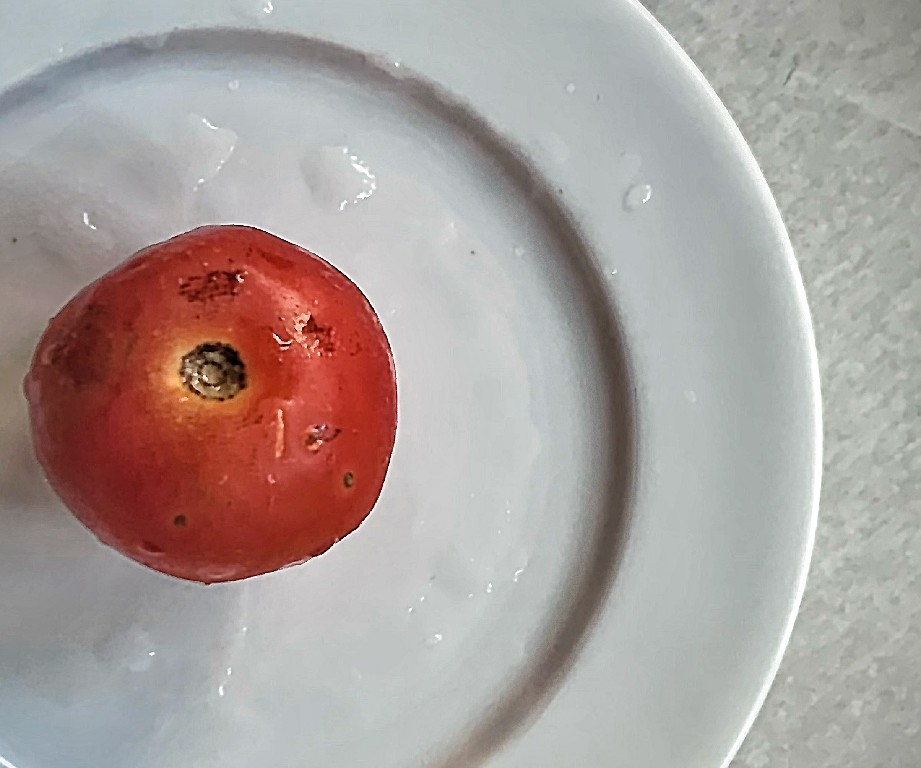NG: (24, 225, 387, 591)
